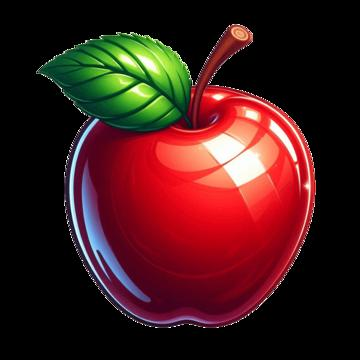apples: (44, 18, 327, 328)
